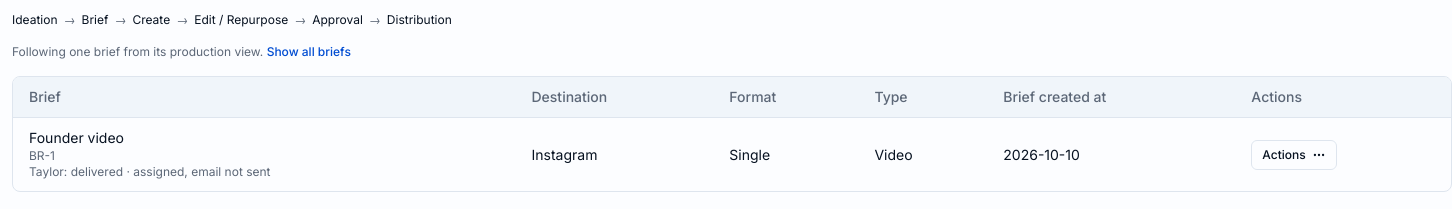
BriefsPanel human Create handoff › shows the delivered assignment and missing email without hiding the work
This screenshot has width=1452, height=209.
Expected: the text "Taylor: delivered · assigned, email not sent" is shown, [29,164,270,180]
// The row's actions moved behind one menu, named after the brief.
Click the button with aria-label "Actions for " at (1294, 154), box [1251,140,1337,170]
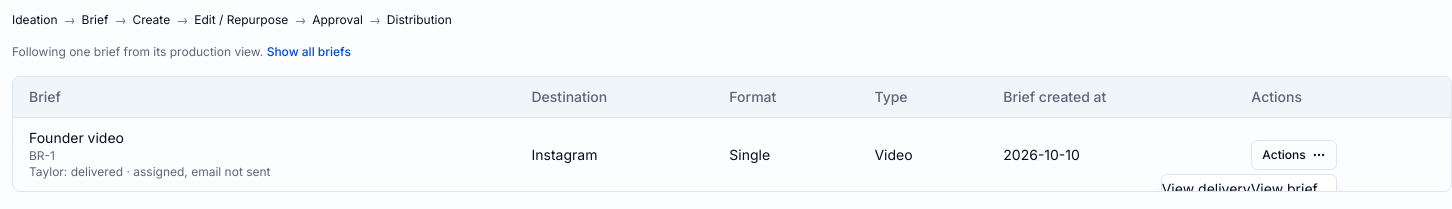
Now the menu item "View delivery" is shown, box [1162,178,1251,192]
